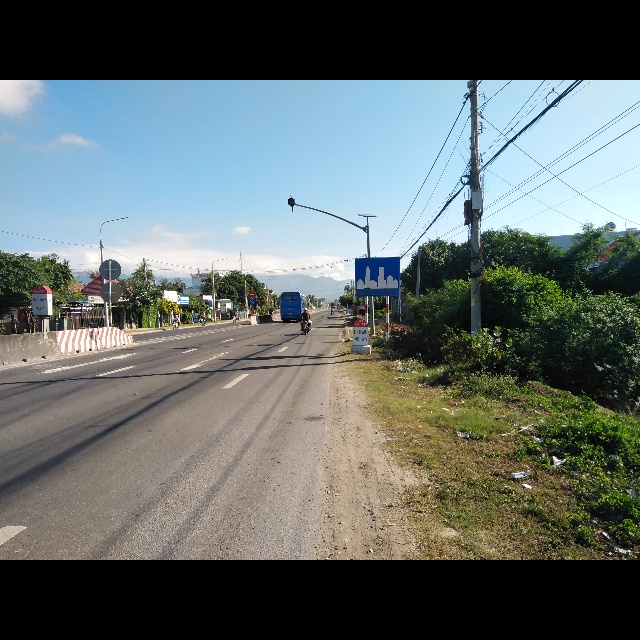Khu đông dân cư: (354, 255, 401, 300)
